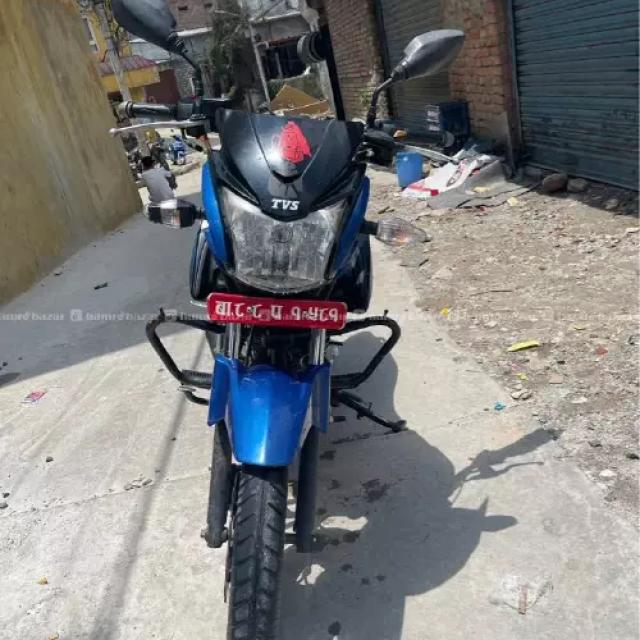License-plate: (205, 285, 347, 331)
